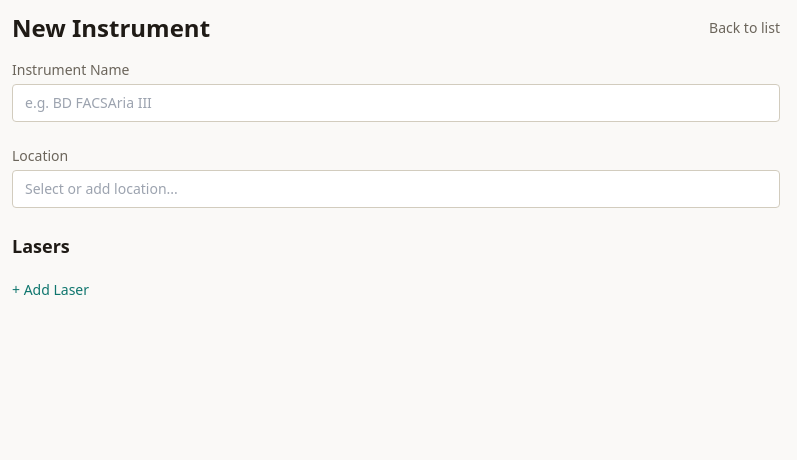
Scenario: InstrumentEditor › adding a detector adds a new row
This screenshot has width=797, height=460.
Click the button "+ Add Laser". click: (50, 290)
box: [12, 280, 89, 300]
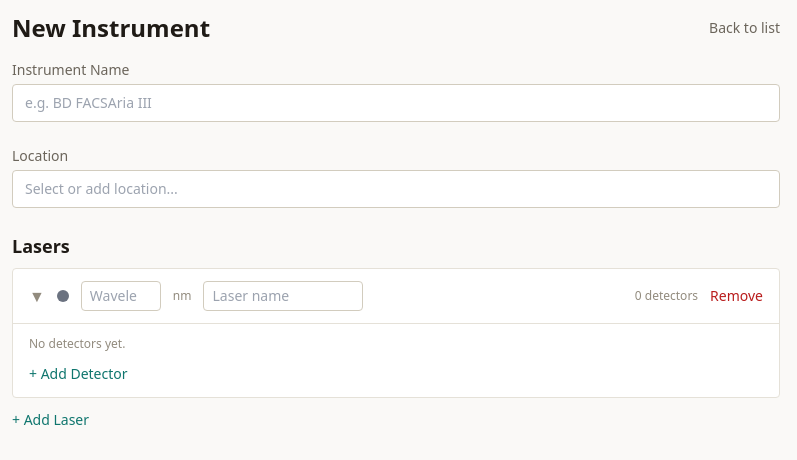
Click the button "+ Add Detector". click: (78, 374)
box: [29, 364, 128, 384]
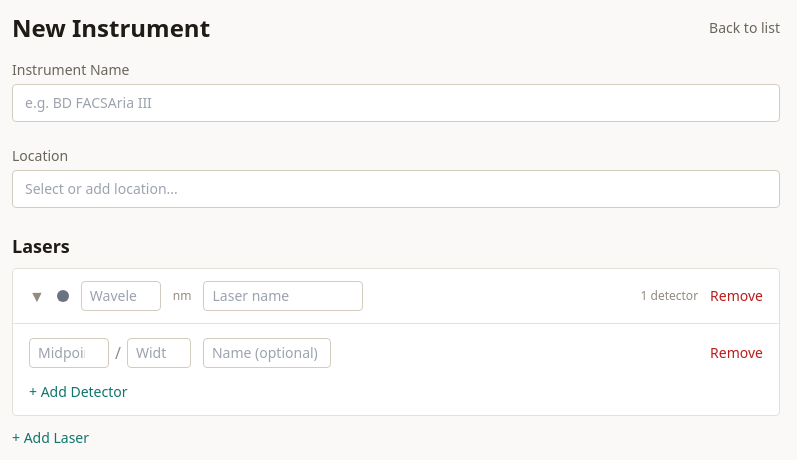
expect the number of number fields with placeholder "Midpoint" is 1: met, box [29, 338, 109, 368]
